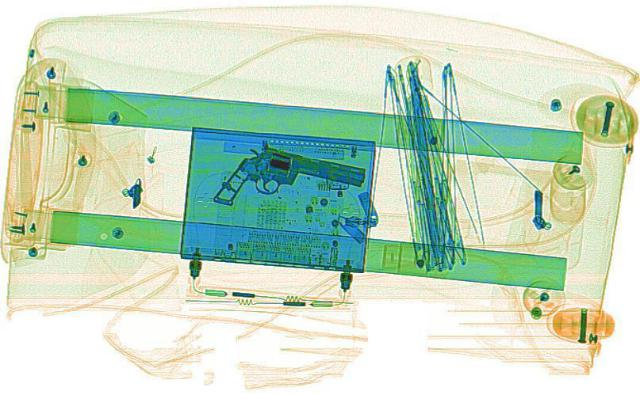Gun: (208, 137, 374, 226)
